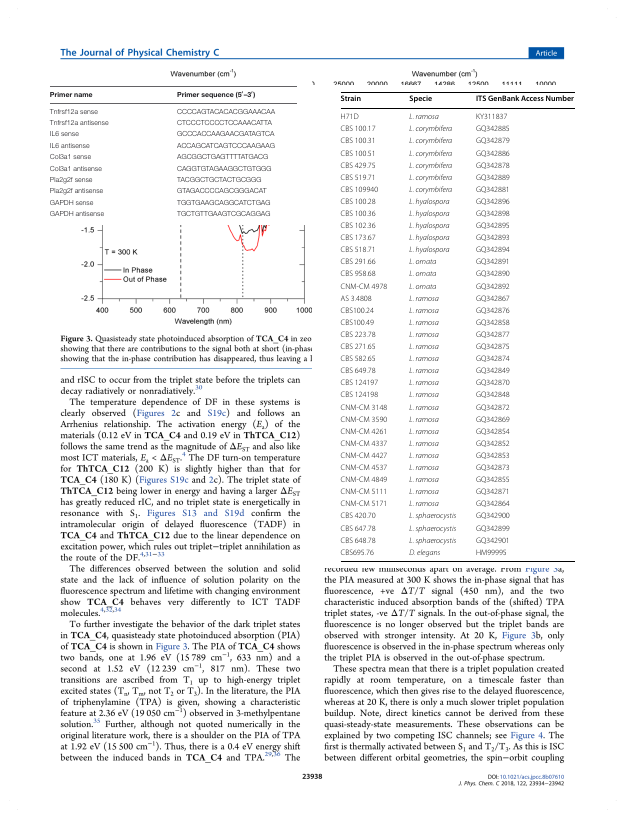borderless: (339, 90, 575, 561), (48, 84, 298, 219)
cell: (475, 94, 575, 104), (176, 108, 276, 117), (176, 142, 276, 151), (176, 119, 272, 128), (176, 210, 271, 219), (176, 153, 269, 162), (176, 131, 275, 139), (176, 176, 262, 185), (176, 165, 272, 173), (176, 199, 271, 207), (176, 188, 267, 196), (176, 91, 256, 99), (49, 119, 109, 128), (49, 210, 105, 219), (408, 511, 457, 521), (408, 124, 453, 134), (408, 136, 453, 146), (49, 108, 98, 117), (408, 524, 457, 533), (408, 536, 457, 545), (49, 188, 104, 196), (340, 463, 388, 472), (340, 475, 388, 484), (340, 487, 388, 496), (49, 165, 102, 173), (408, 209, 450, 219), (408, 221, 450, 231), (408, 233, 450, 243), (408, 245, 450, 255), (408, 149, 453, 158), (408, 161, 453, 170), (408, 173, 453, 182), (408, 185, 453, 194), (49, 176, 93, 185), (49, 153, 92, 162), (340, 282, 388, 290), (340, 403, 388, 411), (340, 415, 388, 423), (340, 427, 388, 435), (340, 439, 388, 447), (340, 451, 388, 459), (340, 500, 388, 508), (408, 197, 450, 206), (49, 142, 90, 151), (49, 199, 94, 207), (49, 91, 93, 99), (340, 209, 376, 218), (475, 209, 511, 218), (340, 221, 376, 230), (475, 221, 511, 230), (340, 233, 376, 242), (475, 233, 511, 242), (340, 342, 376, 351), (475, 342, 511, 351), (340, 354, 376, 363), (475, 354, 511, 363), (340, 366, 376, 375), (475, 366, 511, 375), (475, 463, 511, 472), (475, 475, 511, 484), (475, 487, 511, 496), (408, 112, 440, 122), (408, 330, 440, 340), (408, 342, 440, 352), (408, 354, 440, 364), (408, 366, 440, 376), (408, 378, 440, 388), (408, 390, 440, 400), (408, 451, 440, 461), (408, 463, 440, 473), (408, 475, 440, 485), (408, 487, 440, 497), (408, 499, 440, 509), (340, 185, 379, 193), (340, 379, 379, 387), (340, 391, 379, 399), (475, 112, 508, 121), (408, 548, 441, 557), (339, 125, 376, 133), (339, 137, 376, 145), (339, 149, 376, 157), (408, 257, 437, 267), (475, 125, 511, 133), (475, 137, 511, 145), (475, 149, 511, 157), (340, 161, 376, 169), (475, 161, 511, 169), (340, 173, 376, 181), (475, 173, 511, 181), (475, 185, 511, 193), (340, 197, 376, 205), (475, 197, 511, 205), (340, 246, 376, 254), (475, 246, 511, 254), (340, 258, 376, 266), (475, 258, 511, 266), (340, 270, 376, 278), (475, 270, 511, 278), (475, 282, 511, 290), (408, 294, 440, 303), (475, 294, 511, 302), (408, 306, 440, 315), (475, 306, 511, 314), (408, 318, 440, 327), (475, 318, 511, 326), (340, 330, 376, 338), (475, 330, 511, 338), (475, 379, 511, 387), (475, 391, 511, 399), (408, 403, 440, 412), (475, 403, 511, 411), (408, 415, 440, 424), (475, 415, 511, 423), (408, 427, 440, 436), (475, 427, 511, 435), (408, 439, 440, 448), (475, 439, 511, 447), (475, 451, 511, 459), (475, 500, 511, 508), (340, 512, 376, 520), (475, 512, 511, 520), (340, 524, 376, 532), (475, 524, 511, 532), (340, 536, 376, 544), (475, 536, 511, 544), (340, 306, 375, 314), (340, 318, 375, 326), (340, 548, 375, 556), (340, 294, 373, 302), (475, 548, 508, 556), (408, 270, 437, 279), (408, 282, 437, 291), (408, 94, 433, 104), (49, 131, 79, 139), (339, 94, 362, 104), (339, 112, 360, 121)
